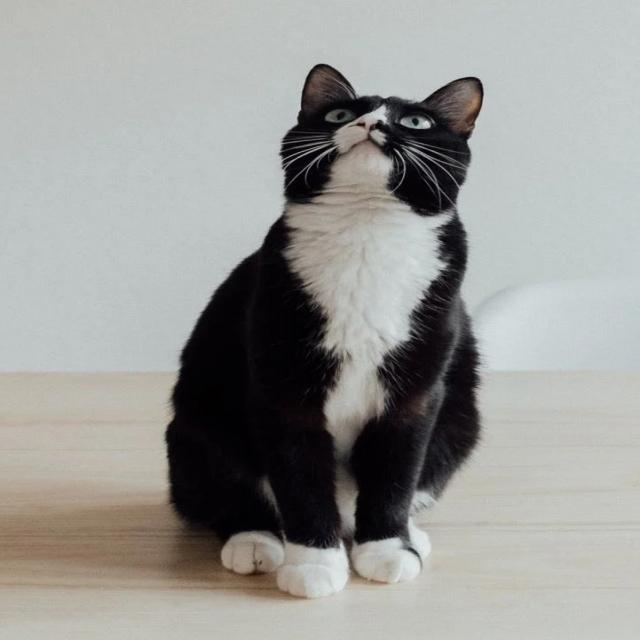cat: (166, 64, 610, 604)
